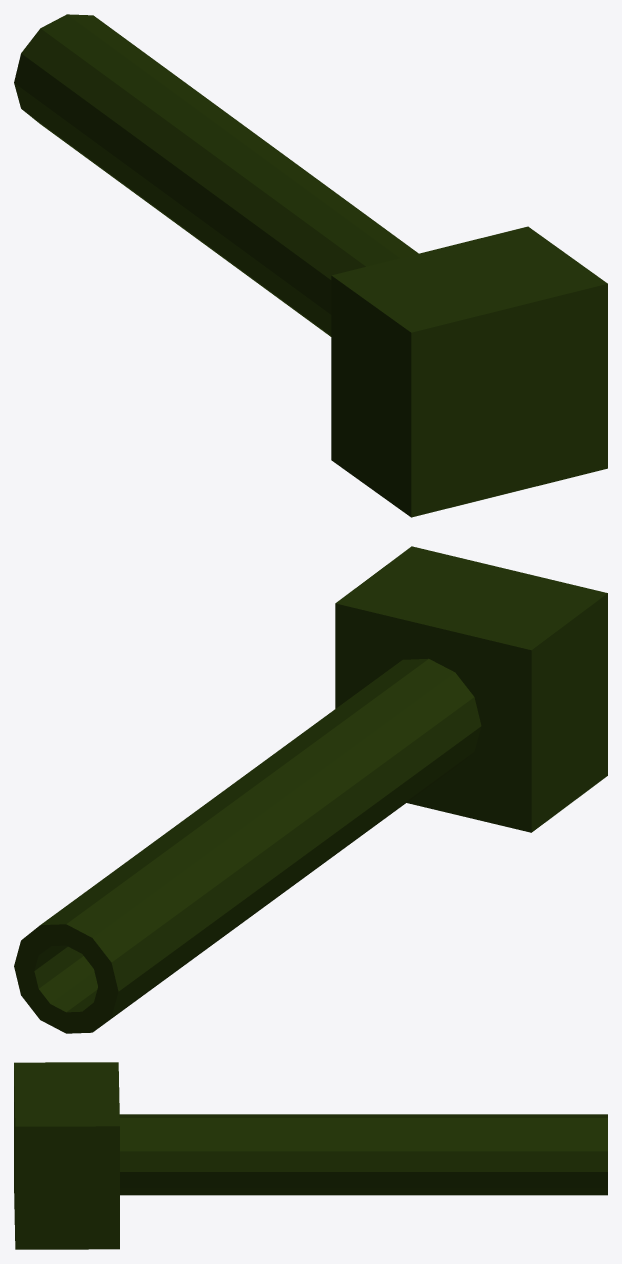
Rendered from Gun.fbx.
3 renders of one model, top to bottom at view 1: azimuth 30°, elevation 25°; view 2: azimuth 150°, elevation 25°; view 3: azimuth 270°, elevation 25°, orthographic. The views are drawn at different scales.
Parts seen in each view (by area): view 1: Gun; view 2: Gun; view 3: Gun.
Boxes of the visible parts, x1=… form: Gun: x1=14, y1=14, x2=607, y2=517; Gun: x1=14, y1=546, x2=607, y2=1033; Gun: x1=14, y1=1062, x2=607, y2=1249.
Bounding box in the file's own units: 0.1878 × 0.1668 × 0.7301.
